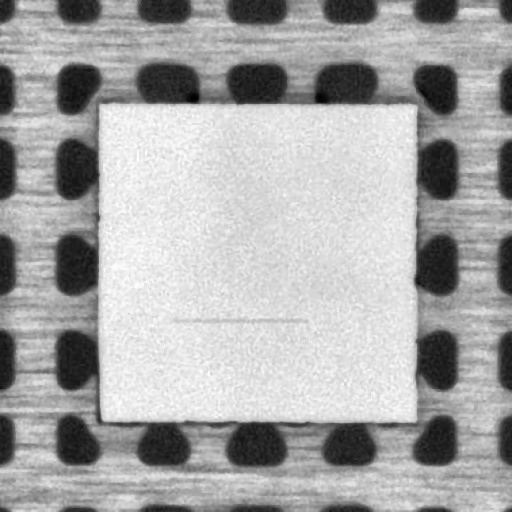DIE_CRACK: (169, 313, 313, 327)
